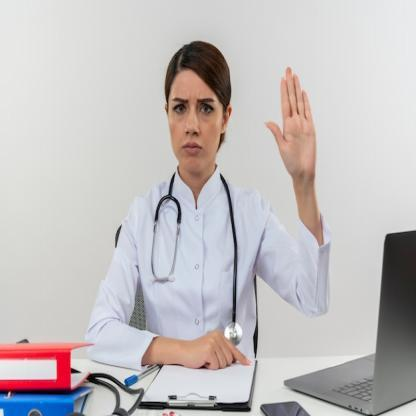stop: (263, 61, 328, 184)
